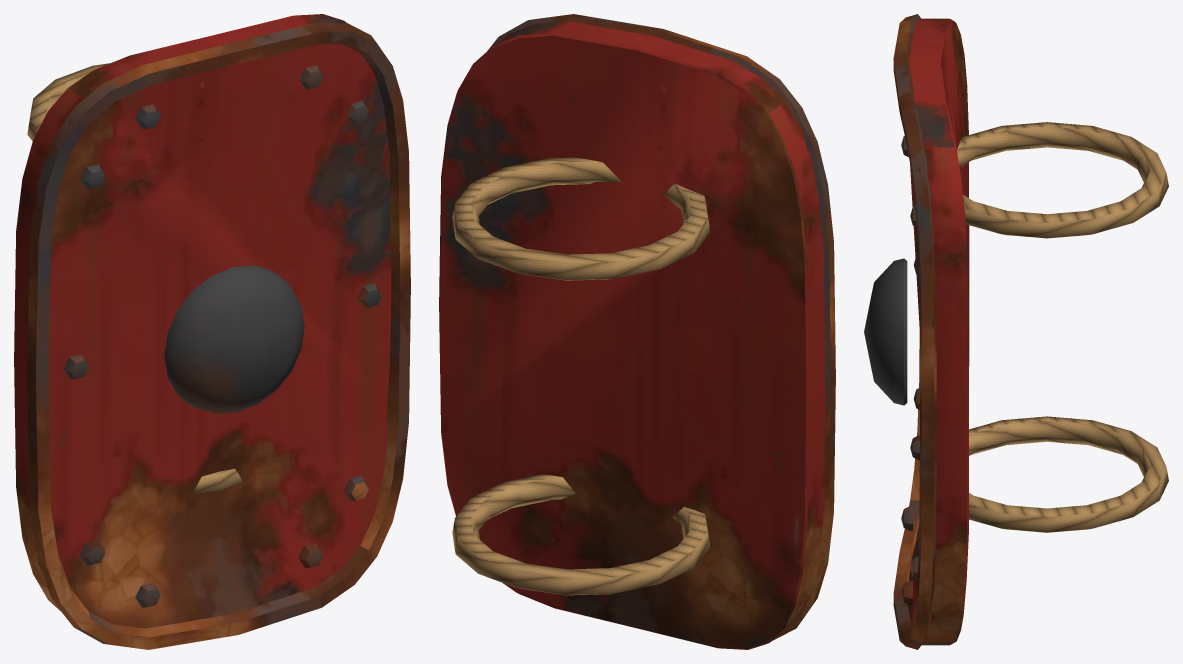
Rendered from Shield_Plate.glb.
3 views of the same model, side by side, from view 1: azimuth 30°, elevation 25°; view 2: azimuth 150°, elevation 25°; view 3: azimuth 270°, elevation 25° (orthographic). The views are drawn at different scales.
Parts seen in each view (by area): view 1: Shield_Plate; view 2: Shield_Plate; view 3: Shield_Plate.
Part boxes in pixels (left/top/right/bottom): Shield_Plate: left=14, top=14, right=410, bottom=649; Shield_Plate: left=439, top=14, right=835, bottom=649; Shield_Plate: left=864, top=14, right=1168, bottom=649.
Bounding box in the file's own units: 0.2456 × 0.3664 × 0.1831.
3 materials, 3 textured.
